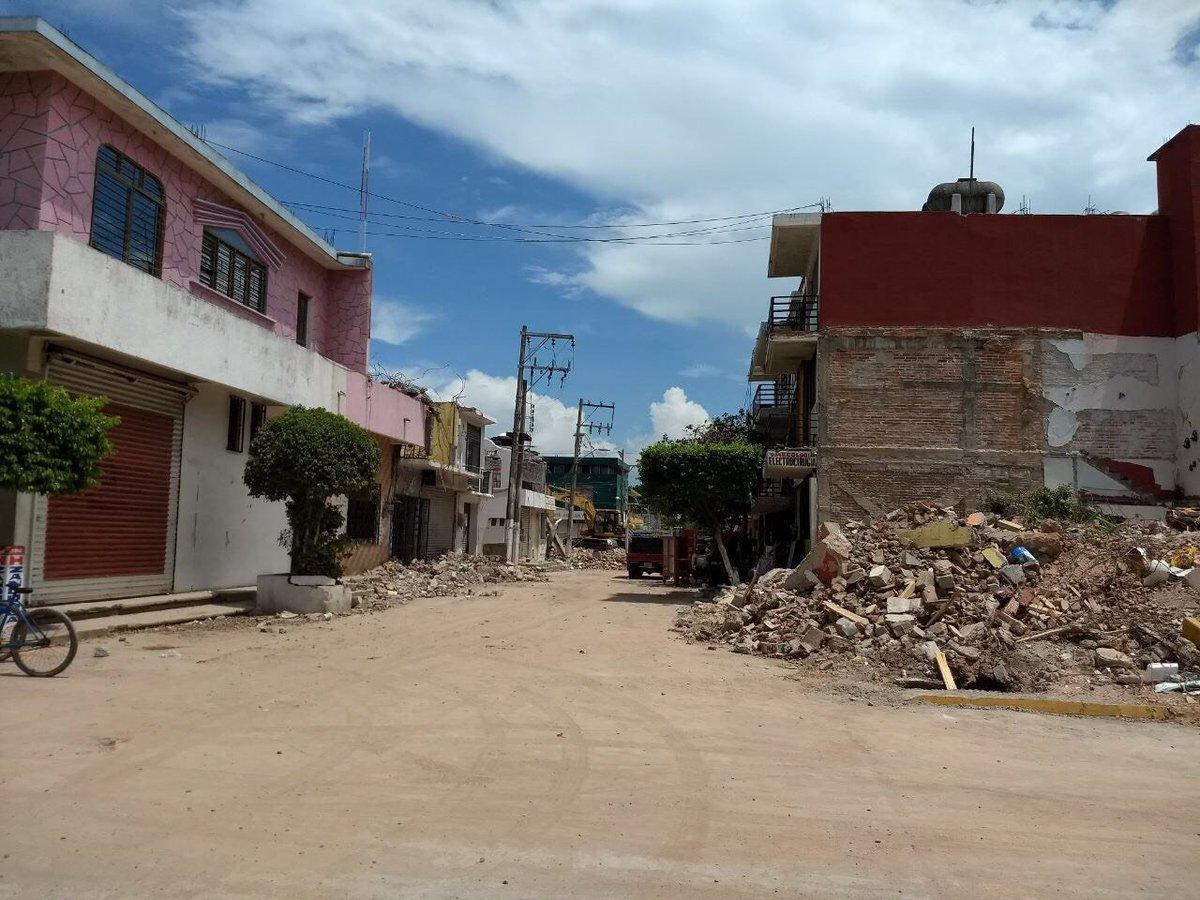affected: (10, 18, 430, 616)
